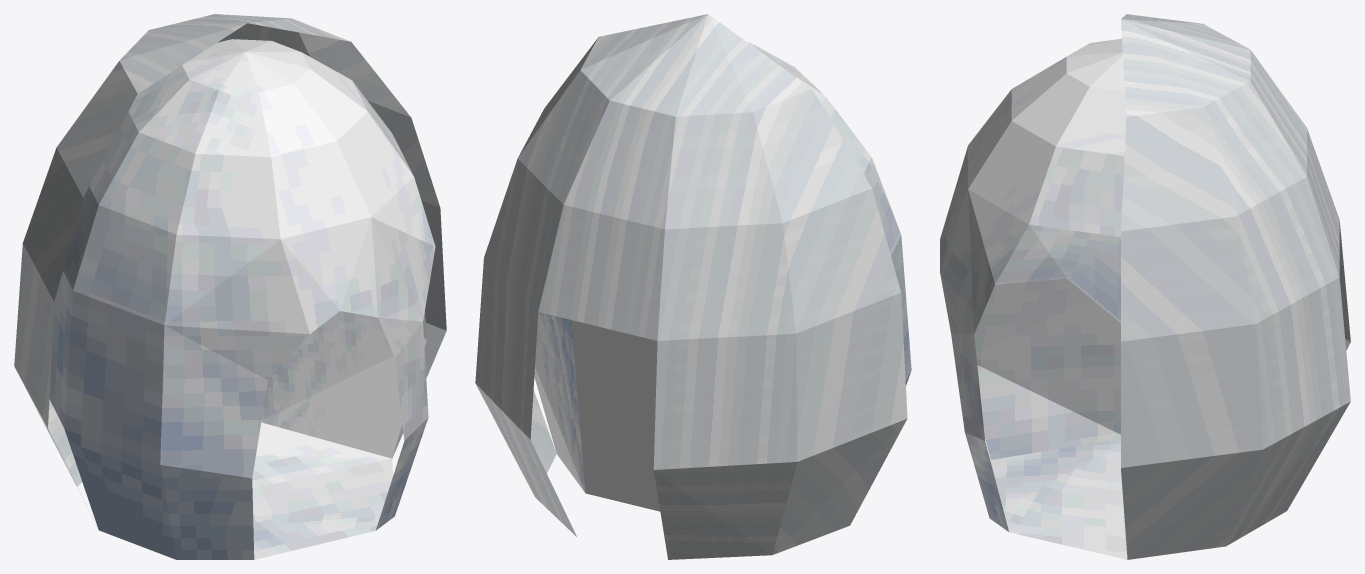
3 views of the same model, side by side, from view 1: azimuth 30°, elevation 25°; view 2: azimuth 150°, elevation 25°; view 3: azimuth 270°, elevation 25° (orthographic).
Visible parts, largest first — view 1: polygon1, polygon0; view 2: polygon0, polygon1; view 3: polygon0, polygon1.
Part boxes in pixels (x1,y1,x2,y2): polygon1: (49, 39, 435, 559); polygon0: (14, 14, 446, 525); polygon0: (475, 14, 907, 559); polygon1: (534, 42, 911, 511); polygon0: (1121, 14, 1350, 559); polygon1: (940, 38, 1127, 559).
Size of the model in its own units: 3.3 by 3.75 by 2.98.
Materials: 2 (2 with a texture image).
